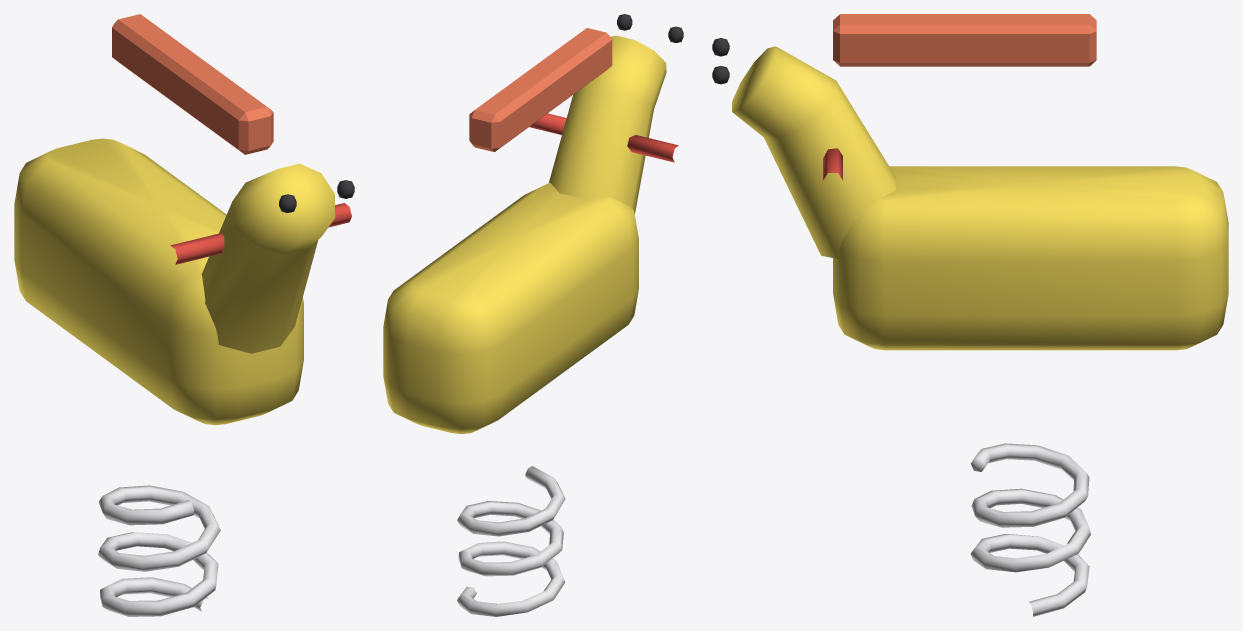
The model's file is spring_rider.glb.
3 renders of one model, left to right at view 1: azimuth 30°, elevation 25°; view 2: azimuth 150°, elevation 25°; view 3: azimuth 270°, elevation 25°, orthographic. The views are drawn at different scales.
Visible parts, largest first — view 1: spring_rider; view 2: spring_rider; view 3: spring_rider.
Boxes of the visible parts, box(x1,y1,x2,y2) form: spring_rider: box(14, 14, 354, 616); spring_rider: box(383, 14, 683, 616); spring_rider: box(712, 14, 1228, 616).
Bounding box in the file's own units: 0.3 × 0.9603 × 0.7831.
